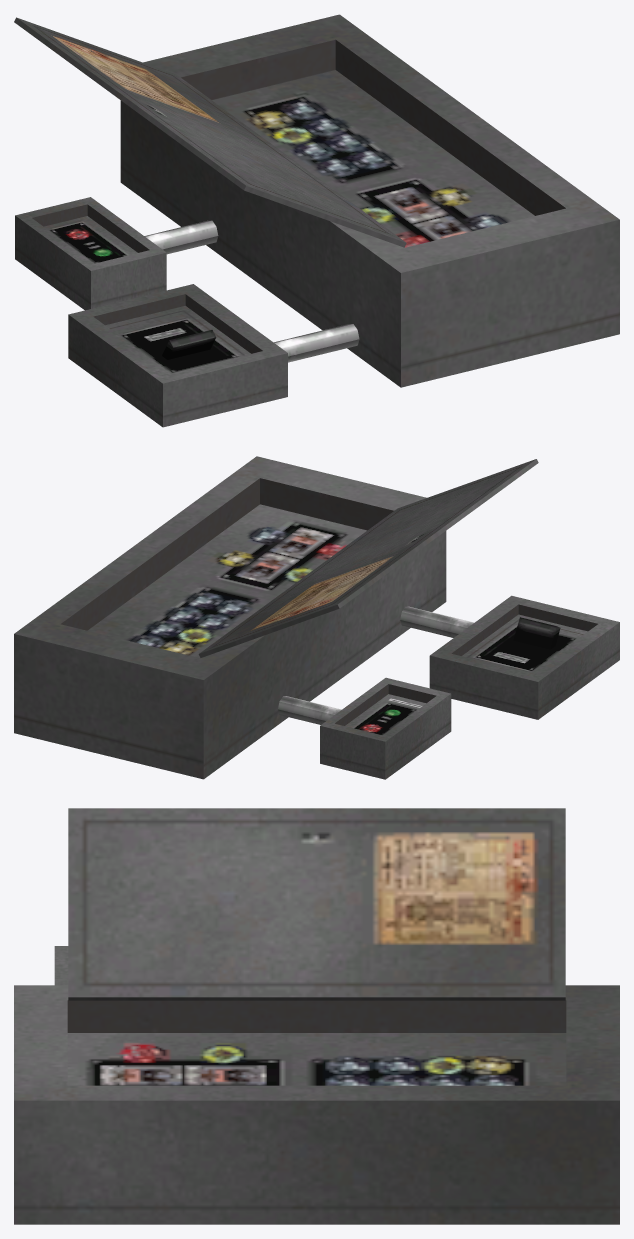
The model's file is utilitybox.fbx.
3 renders of one model, top to bottom at view 1: azimuth 30°, elevation 25°; view 2: azimuth 150°, elevation 25°; view 3: azimuth 270°, elevation 25°, orthographic. The views are drawn at different scales.
Visible parts, largest first — view 1: mesh_1, mesh_0; view 2: mesh_1, mesh_0; view 3: mesh_1, mesh_0.
Part boxes in pixels (x1=…): mesh_1: x1=15, y1=14, x2=619, y2=427; mesh_0: x1=14, y1=17, x2=406, y2=247; mesh_1: x1=14, y1=456, x2=619, y2=779; mesh_0: x1=198, y1=459, x2=538, y2=657; mesh_1: x1=14, y1=946, x2=619, y2=1224; mesh_0: x1=68, y1=808, x2=565, y2=1000.
Bounding box in the file's own units: 80.02 × 37.55 × 88.63.
1 material, 1 textured.
